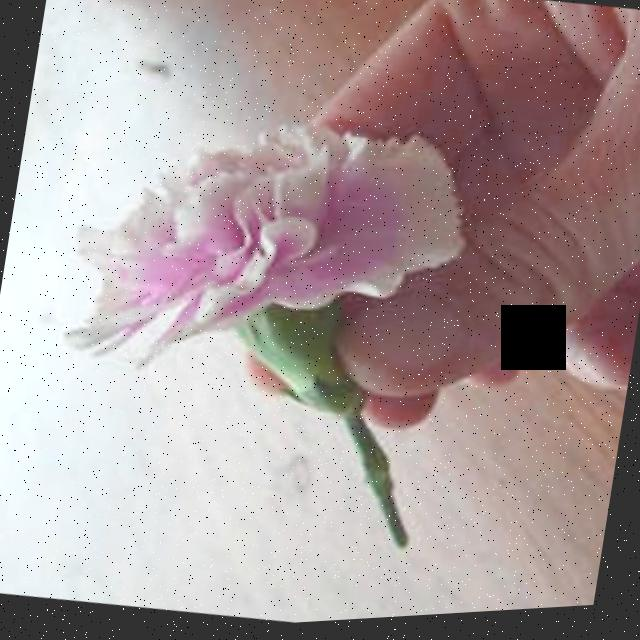carnation: (49, 73, 430, 436)
